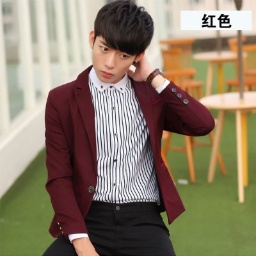face: (87, 1, 156, 82)
